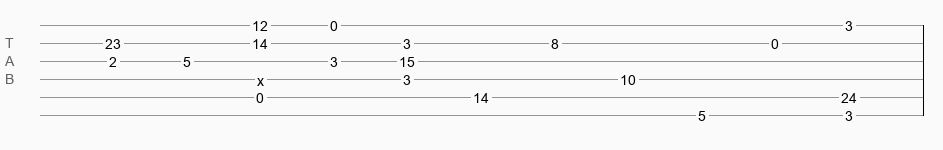0: (256, 90, 264, 100), (330, 18, 338, 28), (771, 36, 779, 46)
10: (620, 72, 636, 82)
12: (252, 18, 268, 28)
14: (252, 36, 268, 46), (473, 90, 489, 100)
15: (399, 54, 415, 64)
2: (109, 54, 117, 64)
23: (105, 36, 121, 46)
24: (841, 90, 857, 100)
3: (330, 54, 338, 64), (403, 72, 411, 82), (403, 36, 411, 46), (845, 108, 853, 118), (845, 18, 853, 28)
5: (183, 54, 191, 64), (698, 108, 706, 118)
8: (551, 36, 559, 46)
x: (257, 73, 264, 81)
